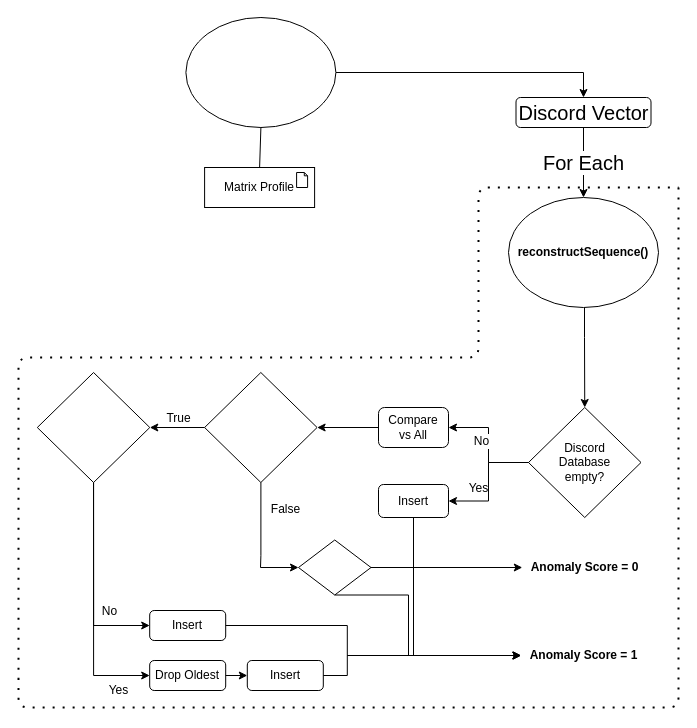
This 697x728 diagram has some shape labels left out. The shapes that lost their labels are listed below. From the top down, each one's centre as x and y in pixels, then its label:
At [260,72]: "TopK Discords".
At [93,427]: "Discord Database full?".
At [260,427]: "Insertion Decision".
At [334,567]: "Anomaly Score".
